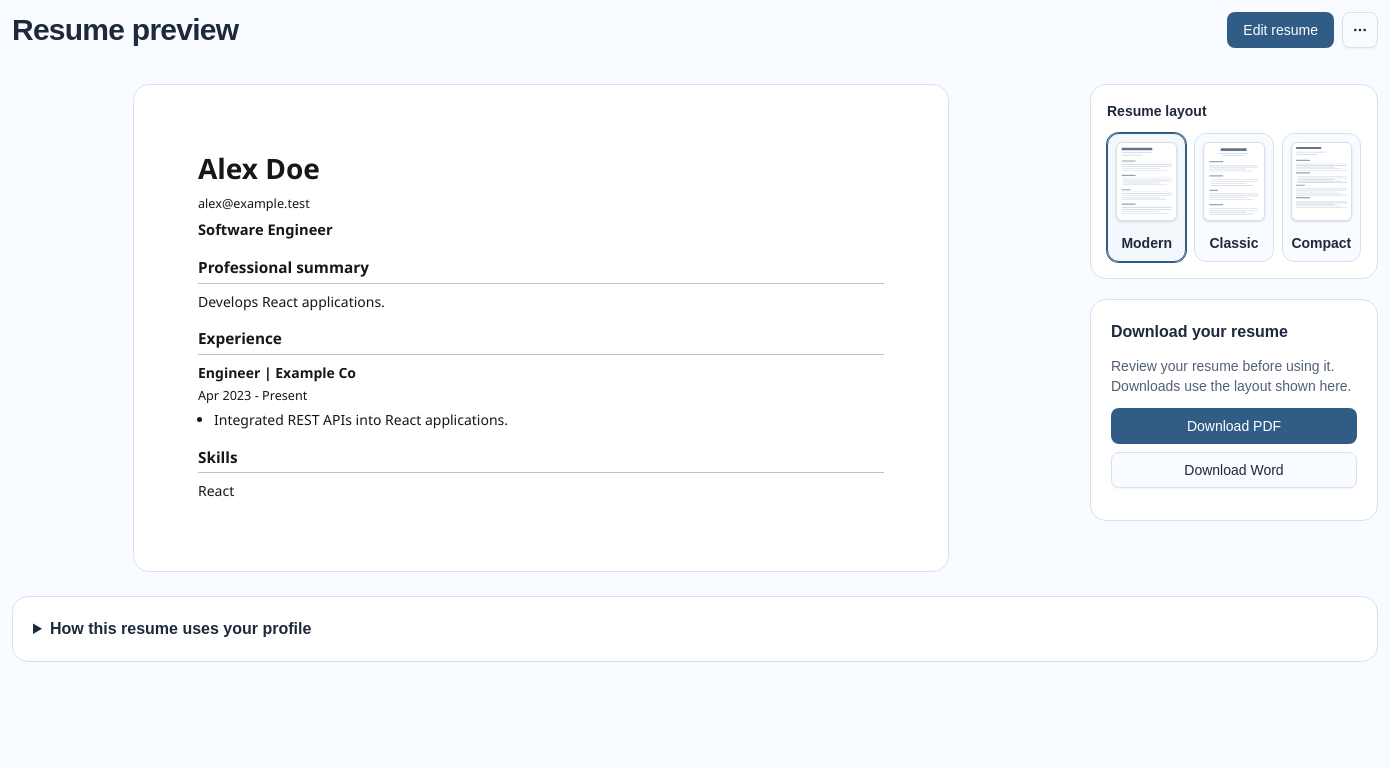
it: allows editing a legacy resume without its source snapshot or a new AI check
Click the button "Edit resume" at [1281, 30], box [1227,12,1334,48]
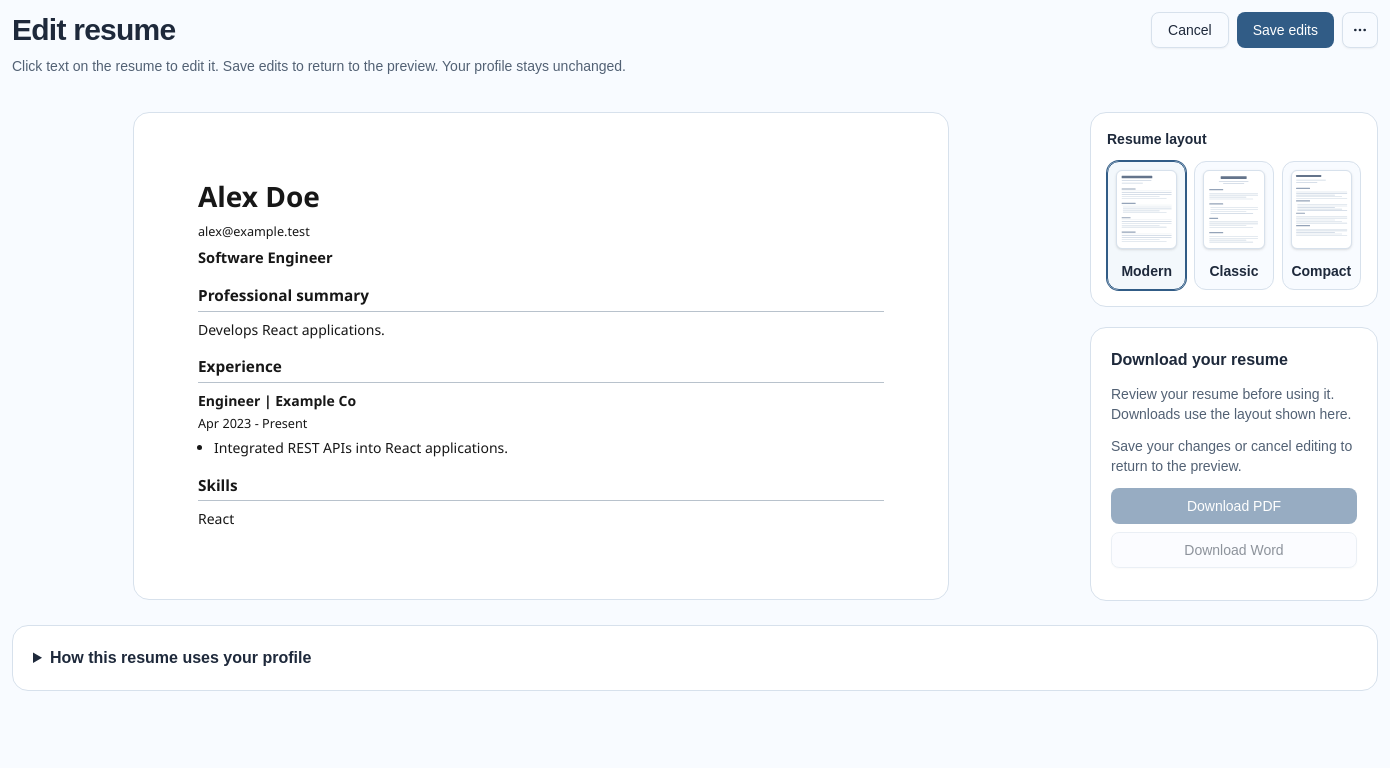
Clear the field named "Professional summary" at [291, 329], box [198,320,385,338]
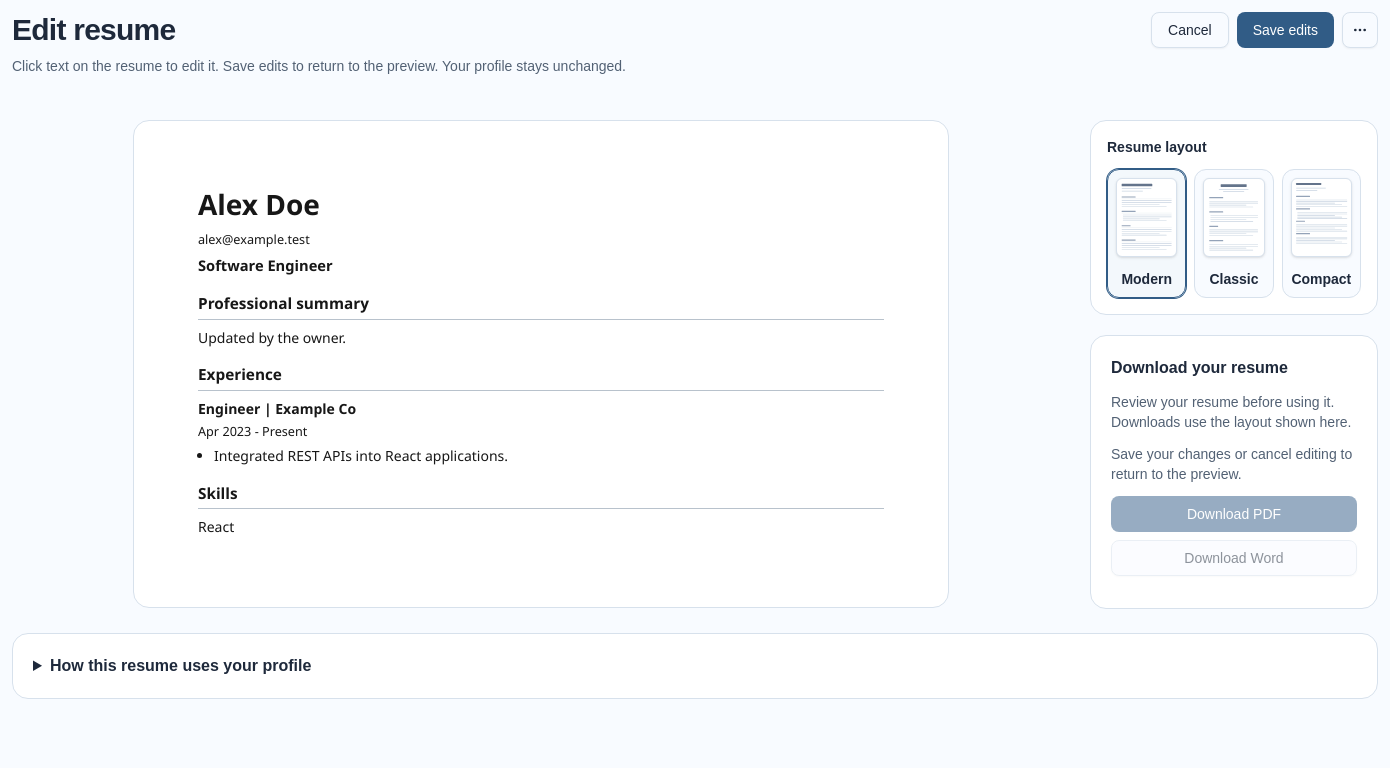
Click the button "Save edits" at [1285, 30], box [1237,12,1334,48]
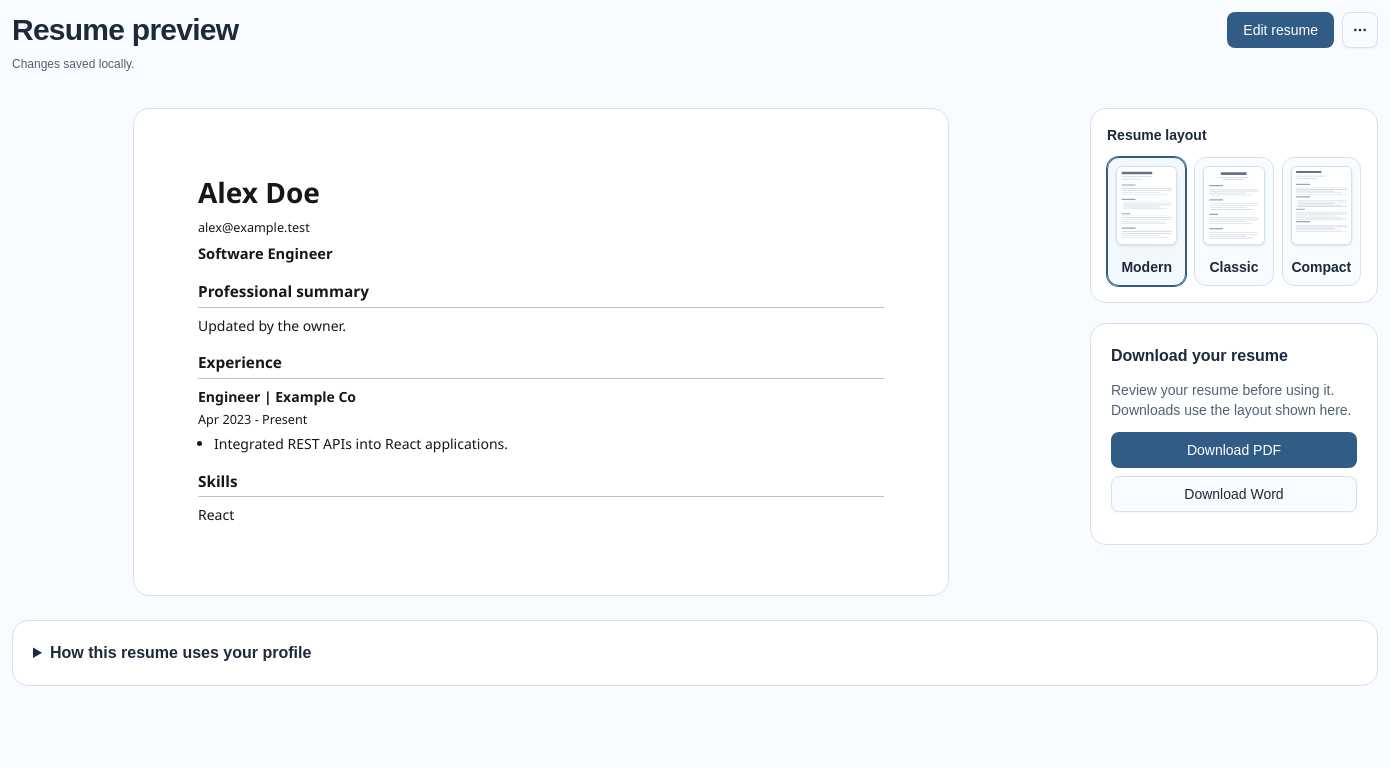
Check: the button "Download PDF" is enabled, box [1111,432,1357,468]
